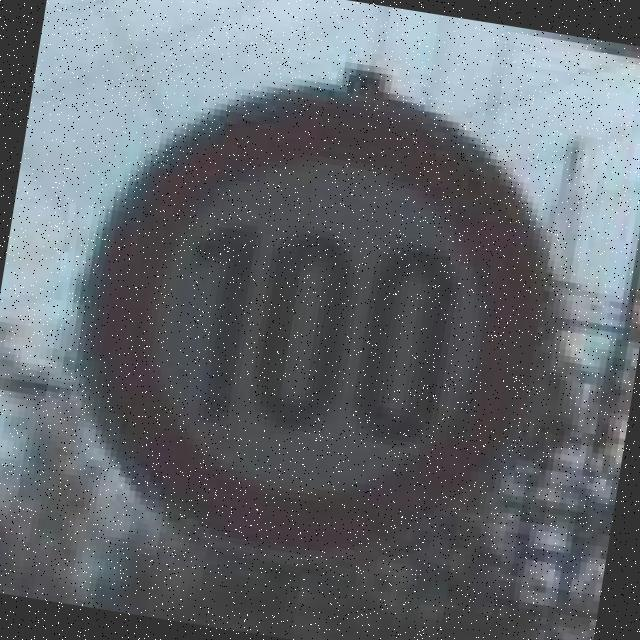Ograniczenie predkosci do 100: (22, 24, 622, 624)
